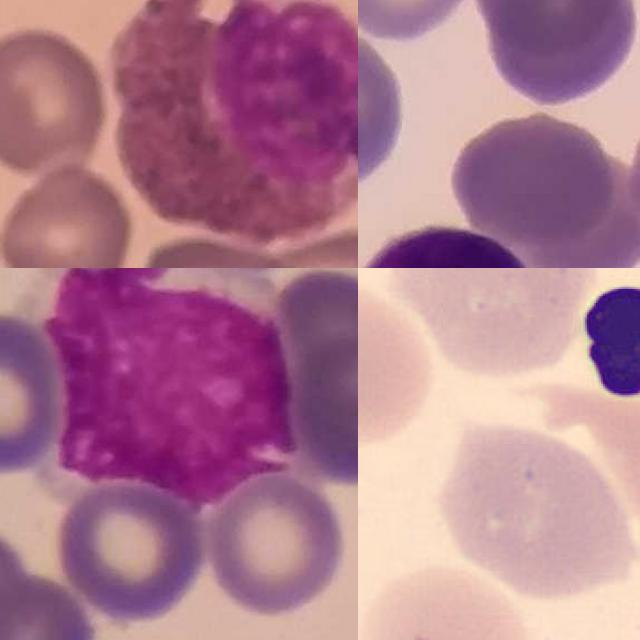Eosinophil: (108, 0, 358, 242)
Lymphocyte: (358, 221, 542, 268)
Monocyte: (31, 268, 305, 507)
RBC: (434, 418, 635, 603), (384, 268, 595, 379), (358, 557, 537, 640), (358, 274, 439, 451)
